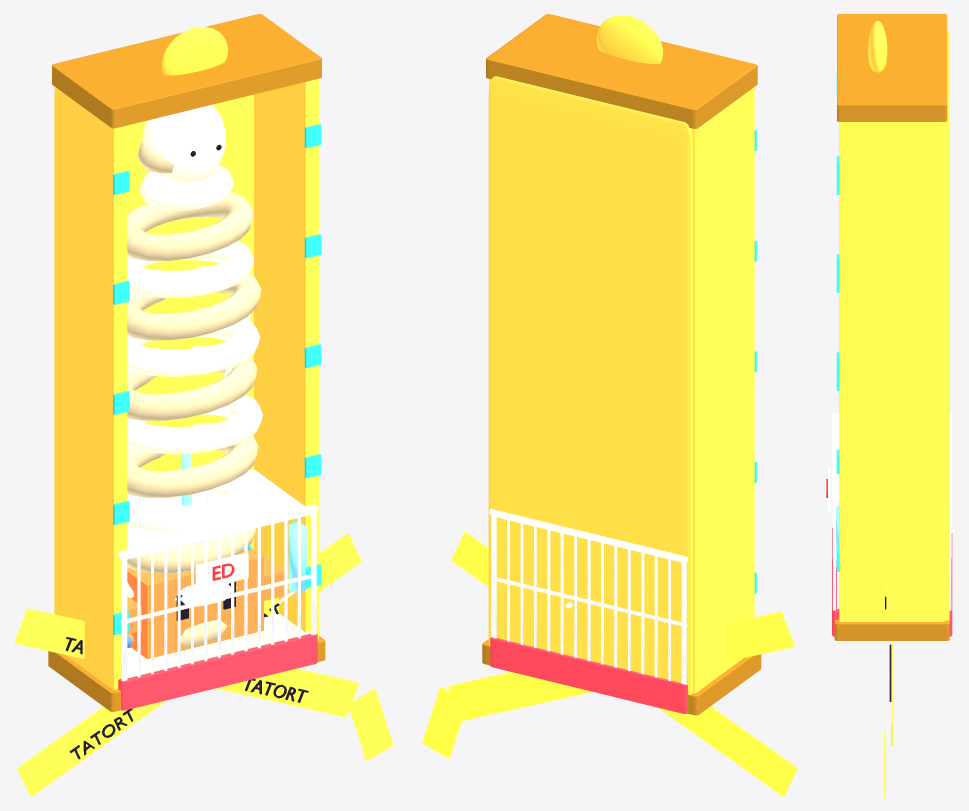
Rendered from req_labor.glb.
3 renders of one model, left to right at view 1: azimuth 30°, elevation 25°; view 2: azimuth 150°, elevation 25°; view 3: azimuth 270°, elevation 25°, orthographic. The views are drawn at different scales.
Parts seen in each view (by area): view 1: Req_SarkWand-1.001, Req_SarkWand1.001, Req_SarkDach.001, Req_SarkRueck.001, Req_KaefigWanne.001, Req_BandStreifen0.001, Req_ClawdKoerper.001, Req_BandStreifen1.001, Req_MumieLage10.001, Req_KaefigDach.001, Req_MumieKopf.001, Req_MumieLage8.001 (+17 smaller); view 2: Req_SarkRueck.001, Req_SarkWand-1.001, Req_SarkDach.001, Req_BandStreifen0.001, Req_KaefigWanne.001, Req_BandStreifen1.001, Req_SarkKrone.001, Req_SarkSockel.001, Req_BandEndeStreifen.001, Req_KaefigDach.001, Req_KaefigQuer0.360.001; view 3: Req_SarkWand1.001, Req_SarkDach.001, Req_SarkRueck.001, Req_SarkSockel.001, Req_KaefigDach.001, Req_SarkKrone.001, Req_KaefigWanne.001, Req_KaefigStabS8r.001, Req_KaefigStabS0r.001.
Part boxes in pixels (x1,y1,x2,y2): Req_SarkWand-1.001: (54, 87, 127, 689); Req_SarkWand1.001: (254, 78, 318, 640); Req_SarkDach.001: (52, 14, 321, 128); Req_SarkRueck.001: (54, 93, 253, 613); Req_KaefigWanne.001: (118, 633, 317, 710); Req_BandStreifen0.001: (14, 608, 359, 717); Req_ClawdKoerper.001: (127, 549, 263, 659); Req_BandStreifen1.001: (17, 533, 361, 796); Req_MumieLage10.001: (127, 192, 254, 260); Req_KaefigDach.001: (118, 469, 318, 559); Req_MumieKopf.001: (142, 104, 225, 183); Req_MumieLage8.001: (127, 266, 261, 340); Req_SarkRueck.001: (488, 76, 692, 694); Req_SarkWand-1.001: (691, 87, 754, 693); Req_SarkDach.001: (486, 14, 757, 128); Req_BandStreifen0.001: (448, 611, 794, 720); Req_KaefigWanne.001: (490, 637, 687, 713); Req_BandStreifen1.001: (451, 531, 797, 796); Req_SarkKrone.001: (596, 15, 663, 63); Req_SarkSockel.001: (482, 639, 761, 715); Req_BandEndeStreifen.001: (422, 686, 461, 758); Req_KaefigDach.001: (489, 509, 687, 562); Req_KaefigQuer0.360.001: (492, 577, 684, 626); Req_SarkWand1.001: (839, 122, 944, 621); Req_SarkDach.001: (837, 14, 947, 121); Req_SarkRueck.001: (944, 31, 949, 620); Req_SarkSockel.001: (834, 619, 949, 640); Req_KaefigDach.001: (832, 412, 952, 502); Req_SarkKrone.001: (868, 21, 887, 72); Req_KaefigWanne.001: (832, 527, 952, 636); Req_KaefigStabS8r.001: (949, 502, 951, 610); Req_KaefigStabS0r.001: (833, 502, 835, 610).
Bounding box in the file's own units: 1.6 × 3.18 × 0.534.
